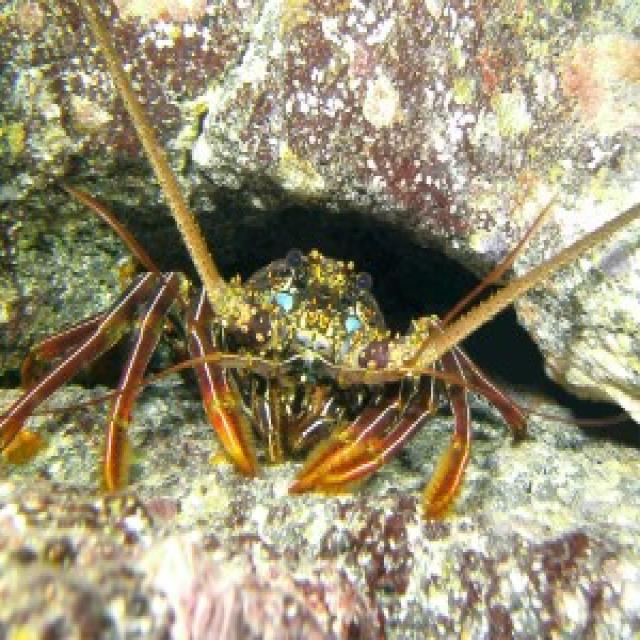lobsters: (35, 24, 640, 548)
